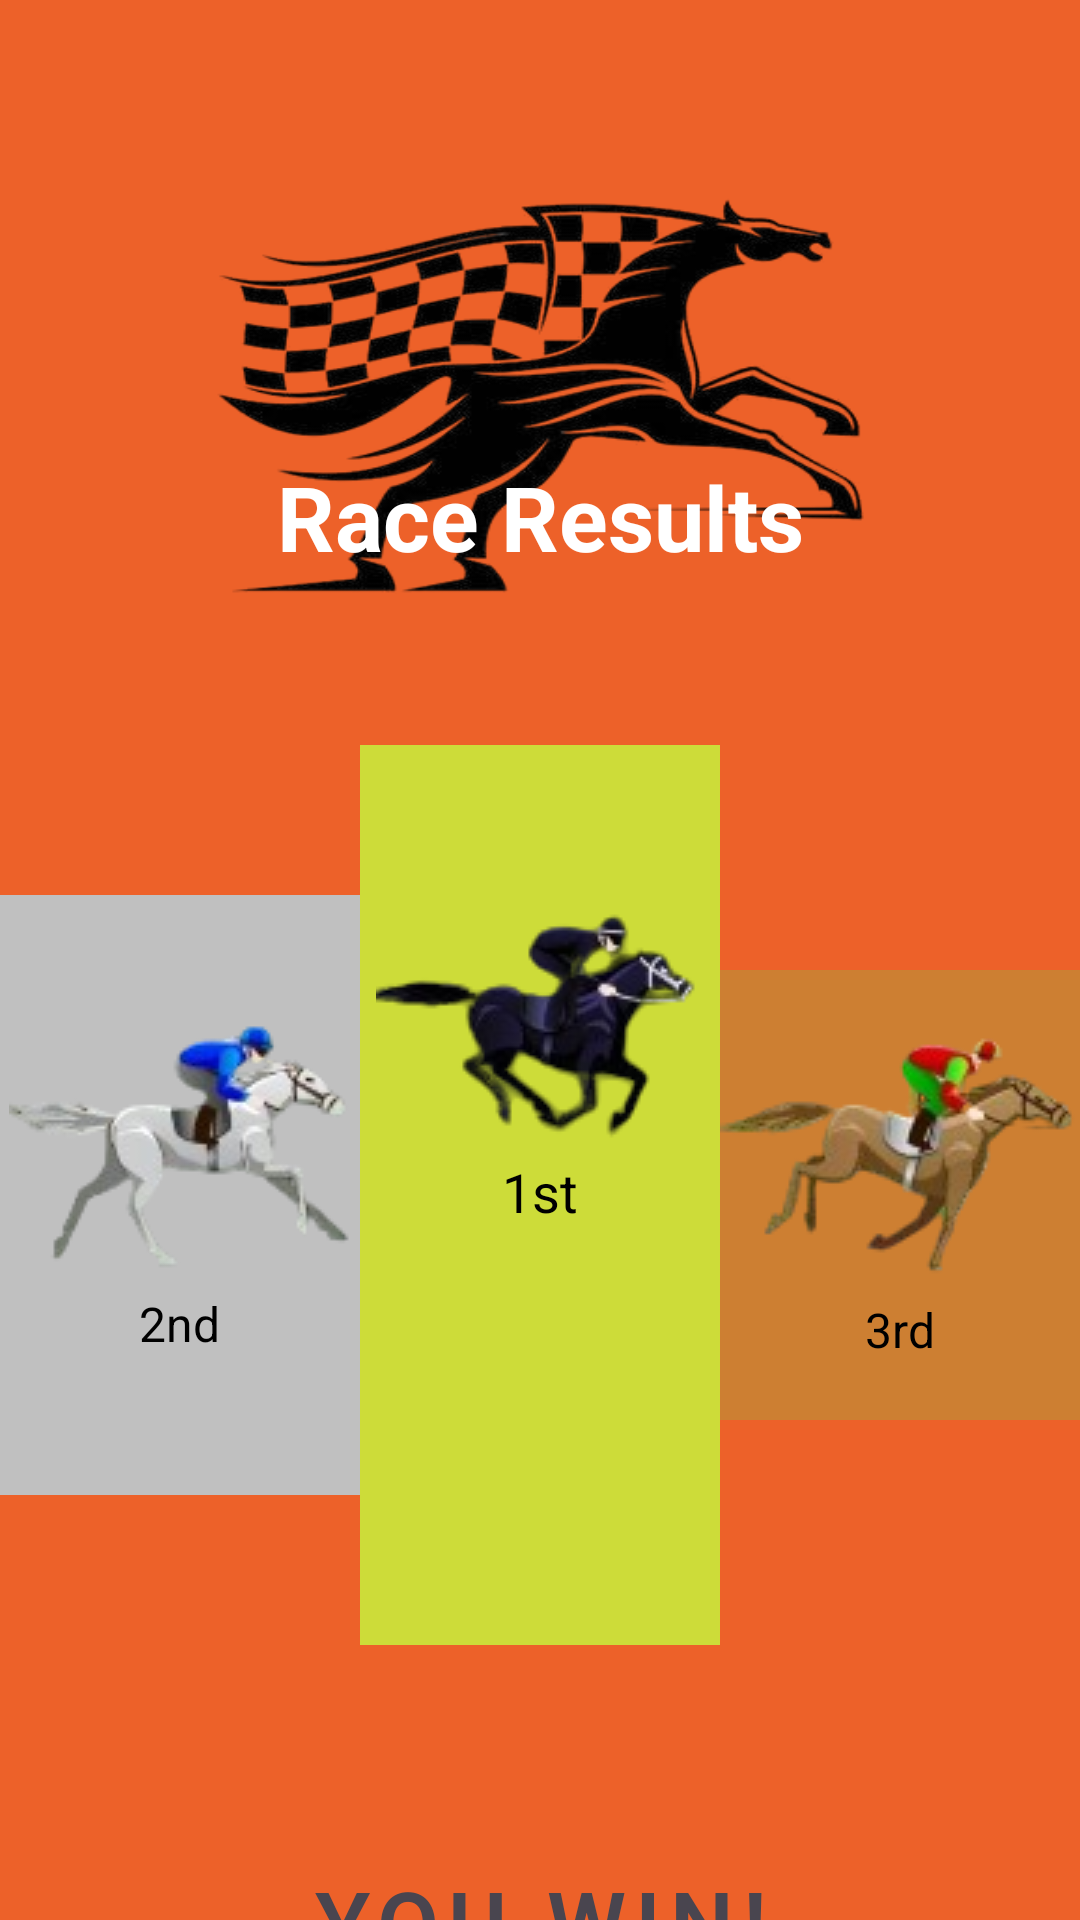

Locate icon controls on the screen. Image size 1080×1920, boxes as [x1,y1,x2,y2].
horse: [376,916,694,1135], [9,1026,348,1258], [720,1039,1072,1271]
